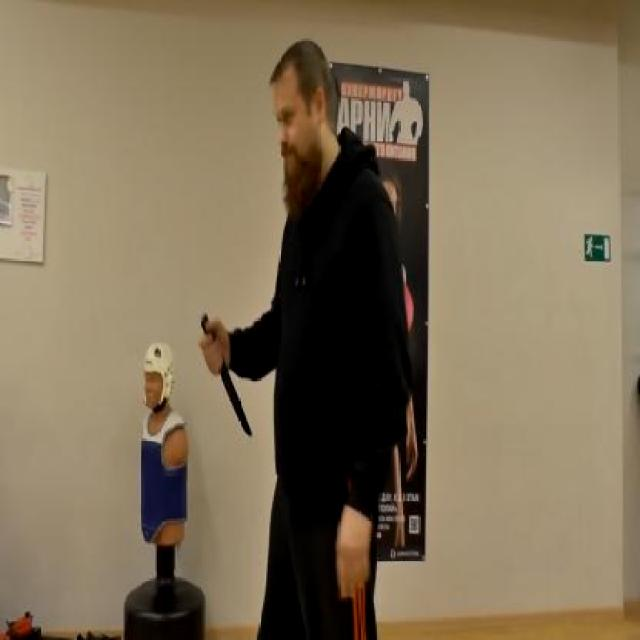knife: (197, 309, 255, 440)
